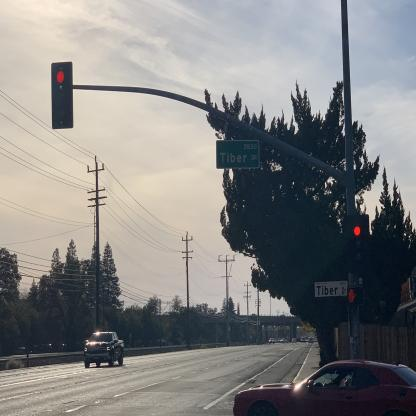red: (344, 214, 371, 273), (51, 61, 73, 130)
